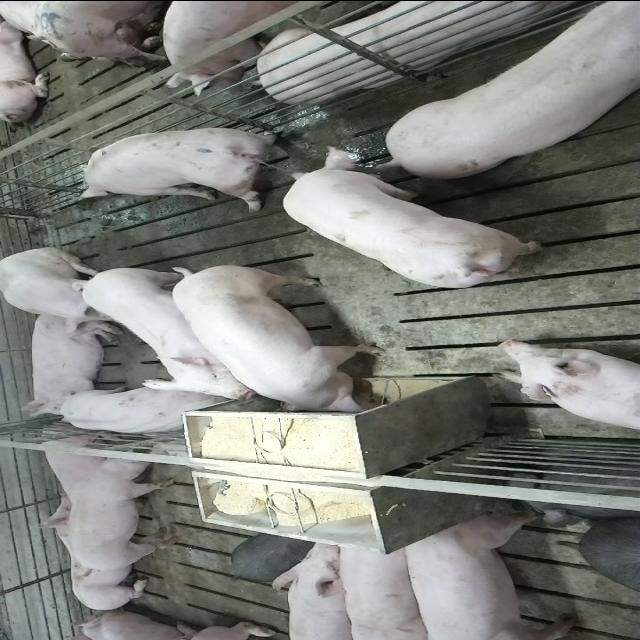Feeding: (168, 267, 394, 421)
Lateral_lying: (188, 0, 588, 102), (20, 312, 126, 419)
Sitting: (1, 246, 132, 332)
Standing: (381, 0, 639, 174), (286, 148, 552, 292), (76, 260, 262, 399), (397, 510, 580, 639), (74, 123, 296, 209), (164, 0, 334, 95), (66, 448, 177, 574), (331, 533, 435, 637), (273, 538, 363, 640)
Sternal_lying: (29, 493, 158, 609), (494, 338, 640, 433), (36, 426, 118, 498)
